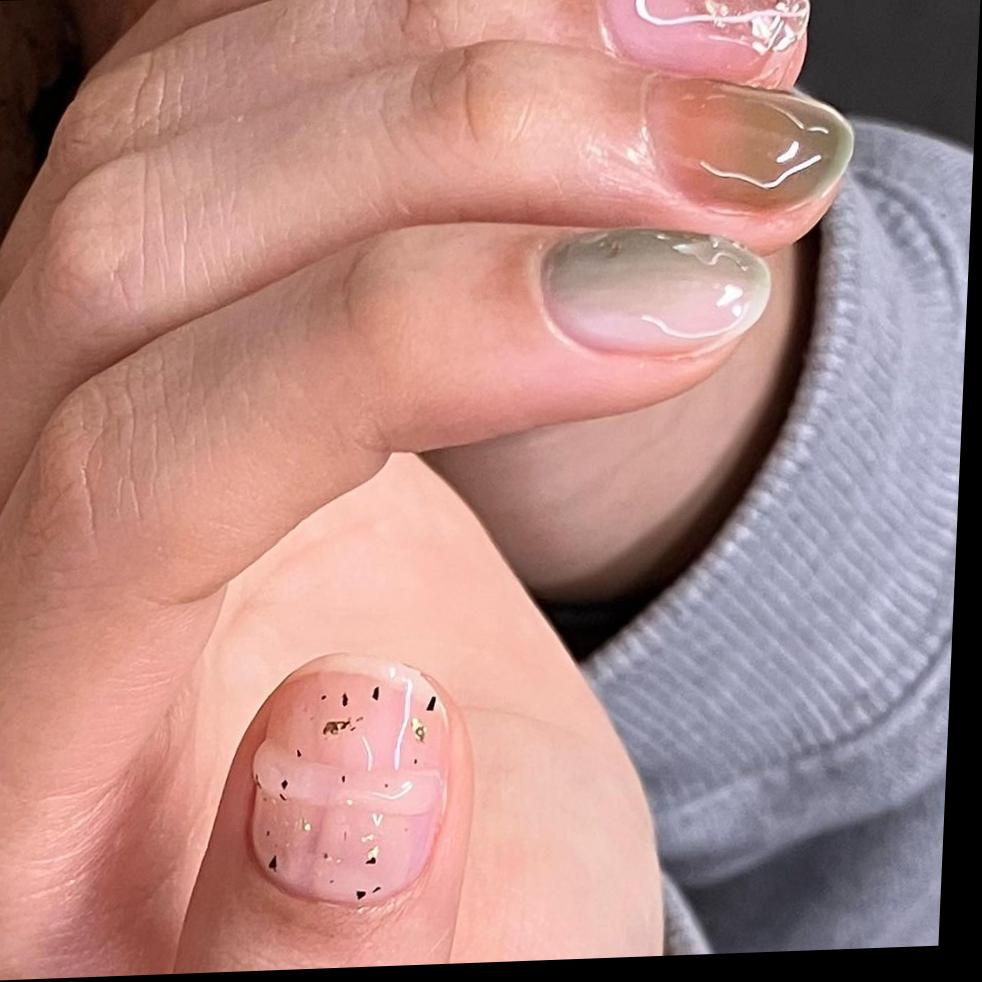nail: (243, 649, 459, 910), (536, 219, 777, 364), (595, 0, 814, 96)
